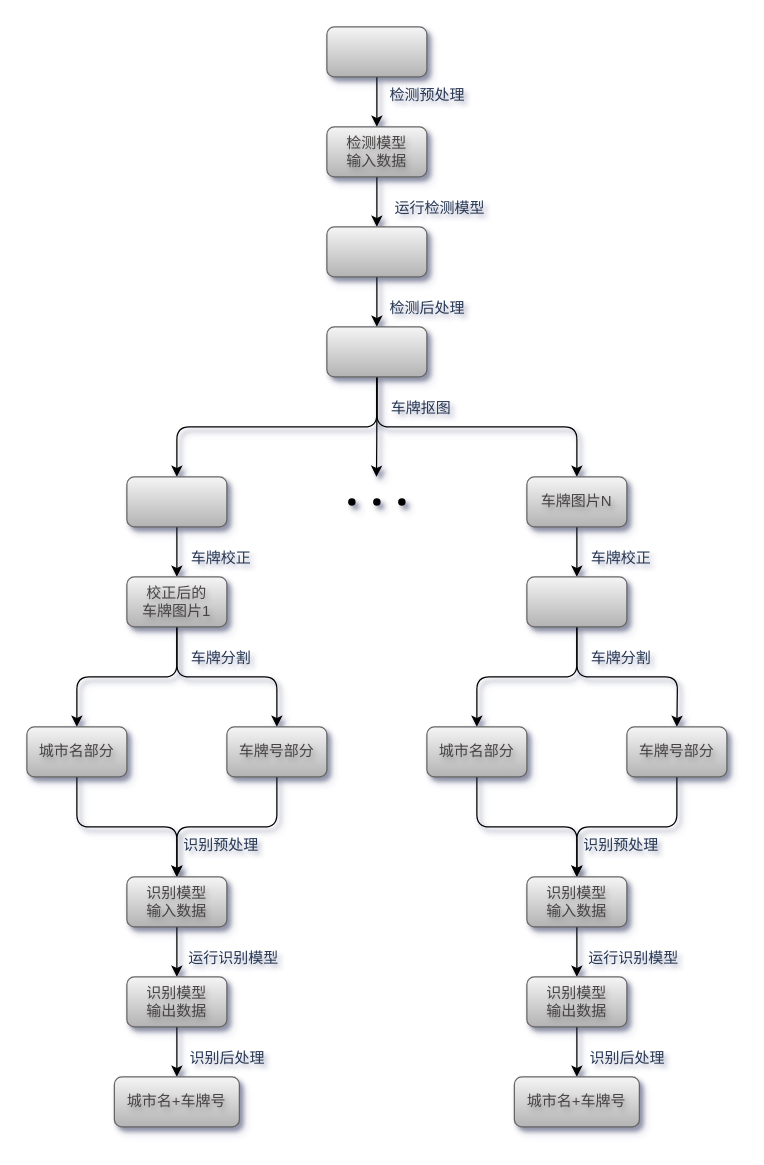
This 764x1165 diagram has some shape labels left out. Each missing label, with the centre of its shape:
"原图" belongs at [377,53].
"校正后的 车牌图片N" belongs at [577,603].
"检测框+ 关键点" belongs at [377,353].
"检测模型 输出数据" belongs at [377,253].
"车牌图片1" belongs at [177,503].
